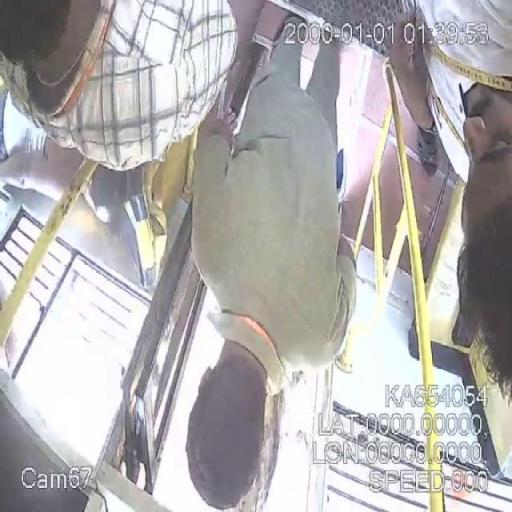persona: (182, 0, 358, 511), (382, 0, 511, 406), (2, 2, 240, 164)
